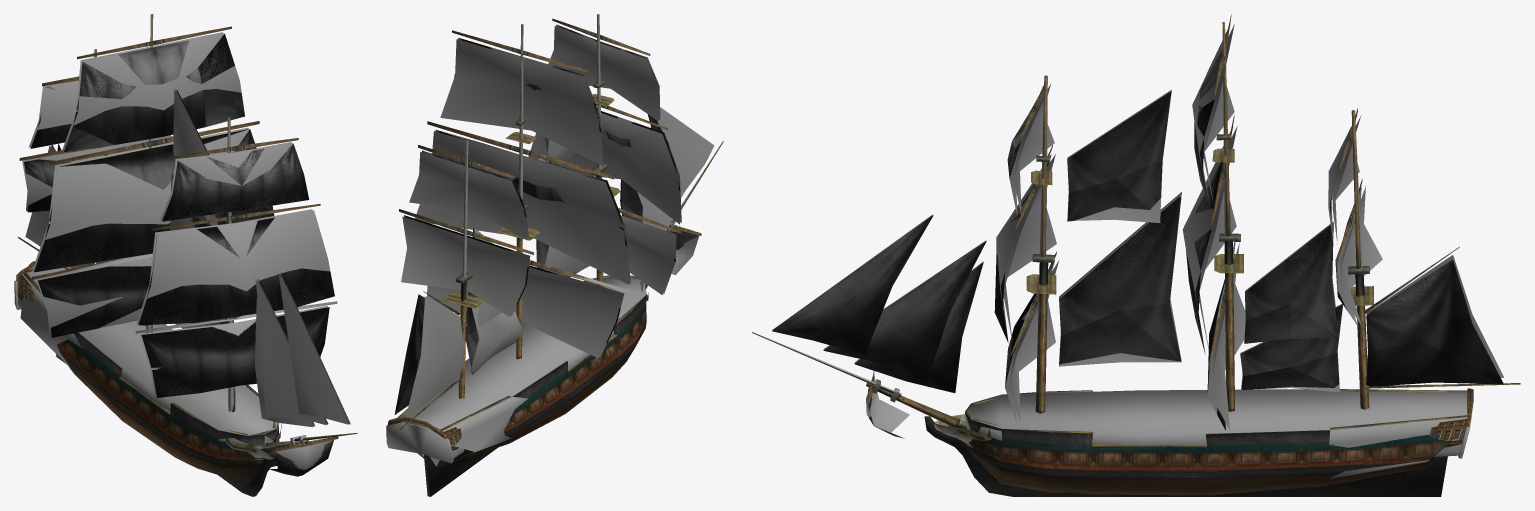
File: F_Monster_028_m.fbx
3 renders of one model, left to right at view 1: azimuth 30°, elevation 25°; view 2: azimuth 150°, elevation 25°; view 3: azimuth 270°, elevation 25°, orthographic. The views are drawn at different scales.
Parts seen in each view (by area): view 1: F_Ship_FakeShadow, F_Ship_Sail, F_Ship; view 2: F_Ship_FakeShadow, F_Ship, F_Ship_Sail; view 3: F_Ship_Sail, F_Ship_FakeShadow, F_Ship.
Boxes of the visible parts, x1,y1,x2,y2 form: F_Ship_FakeShadow: [14, 14, 357, 469]; F_Ship_Sail: [24, 33, 350, 476]; F_Ship: [16, 14, 357, 496]; F_Ship_FakeShadow: [386, 14, 720, 466]; F_Ship: [388, 14, 723, 496]; F_Ship_Sail: [394, 24, 698, 414]; F_Ship_Sail: [772, 46, 1503, 438]; F_Ship_FakeShadow: [752, 22, 1503, 478]; F_Ship: [752, 14, 1520, 496].
Size of the model in its own units: 0.4354 by 0.7326 by 1.08.
